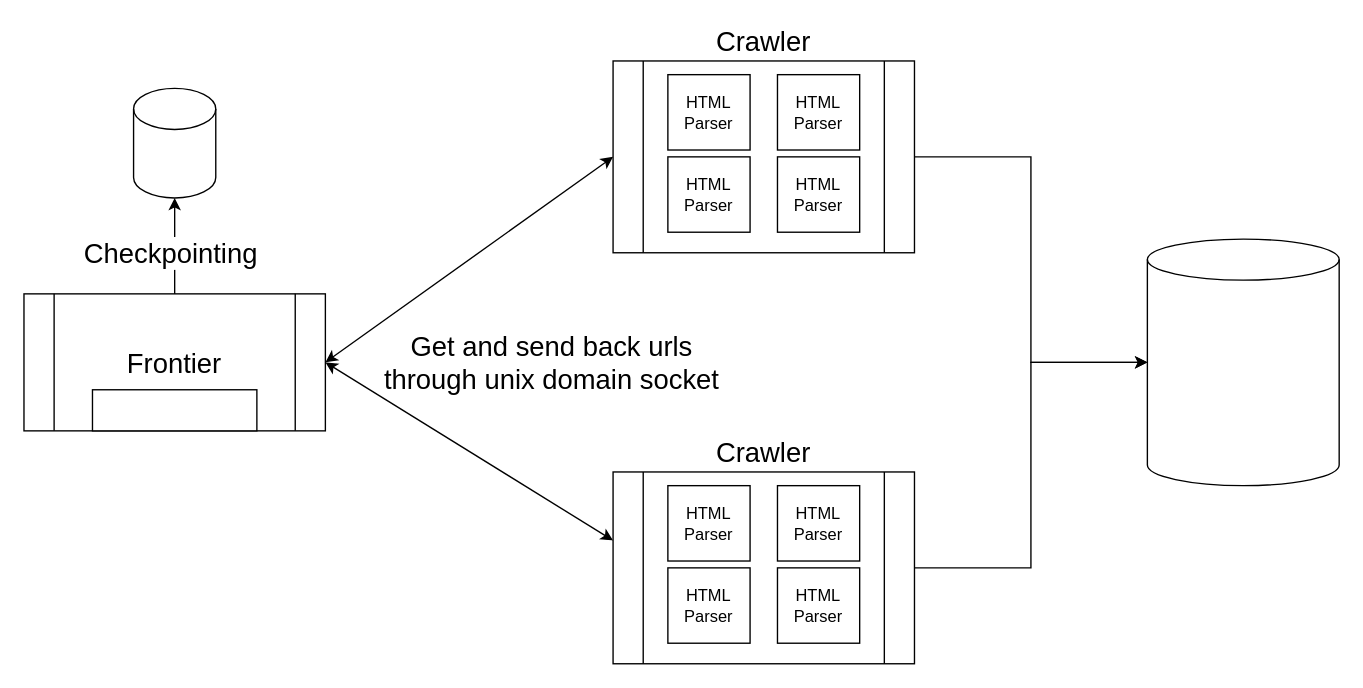
Some shapes in this 1363 by 688 pixel diagram are drawn without their labels. The shapes that lost their labels are listed below. From the top down, each one's centre as x and y in pixels, then its label:
the point at 174,142: File sytem
the point at 1242,362: File system
the point at 174,409: Bloom filter
